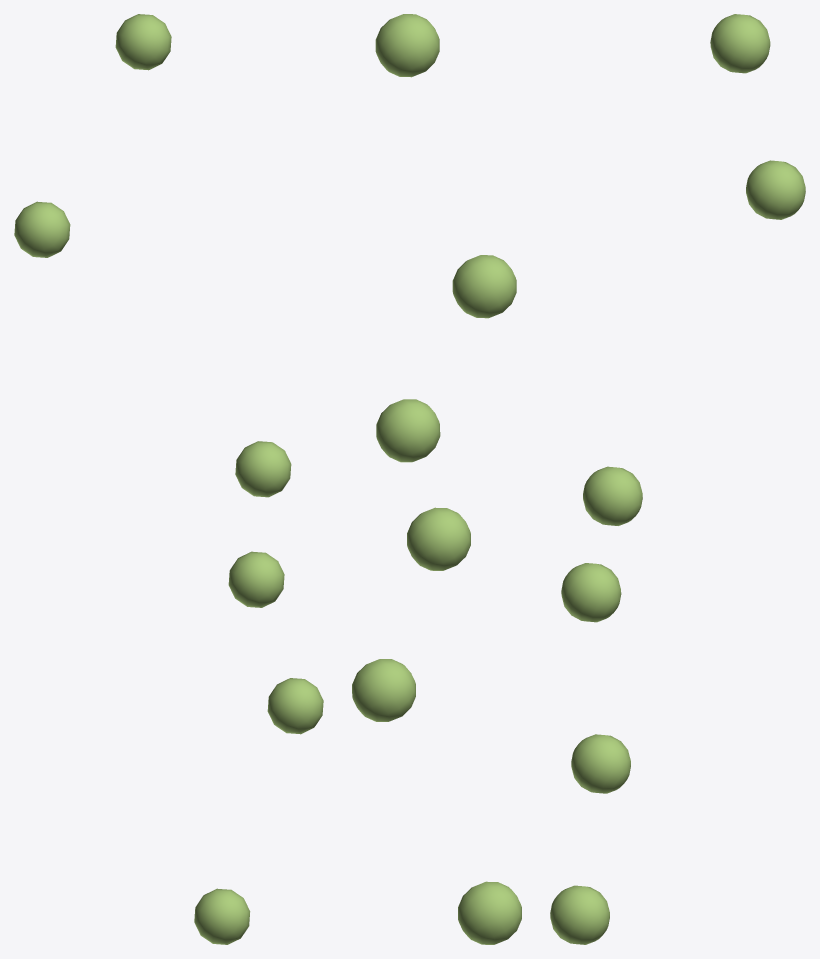
The model's file is anterior-inferior-jugular-nodes-r.glb.
3 renders of one model, left to right at view 1: azimuth 30°, elevation 25°; view 2: azimuth 150°, elevation 25°; view 3: azimuth 270°, elevation 25°, orthographic. The views are drawn at different scales.
Visible parts, largest first — view 1: Anterior inferior jugular nodes.r; view 2: Anterior inferior jugular nodes.r; view 3: Anterior inferior jugular nodes.r.
Boxes of the visible parts, <box> form: Anterior inferior jugular nodes.r: <box>14,14,323,944</box>; Anterior inferior jugular nodes.r: <box>352,14,521,944</box>; Anterior inferior jugular nodes.r: <box>550,14,805,944</box>.
Bounding box in the file's own units: 0.0115 × 0.0436 × 0.0109.
